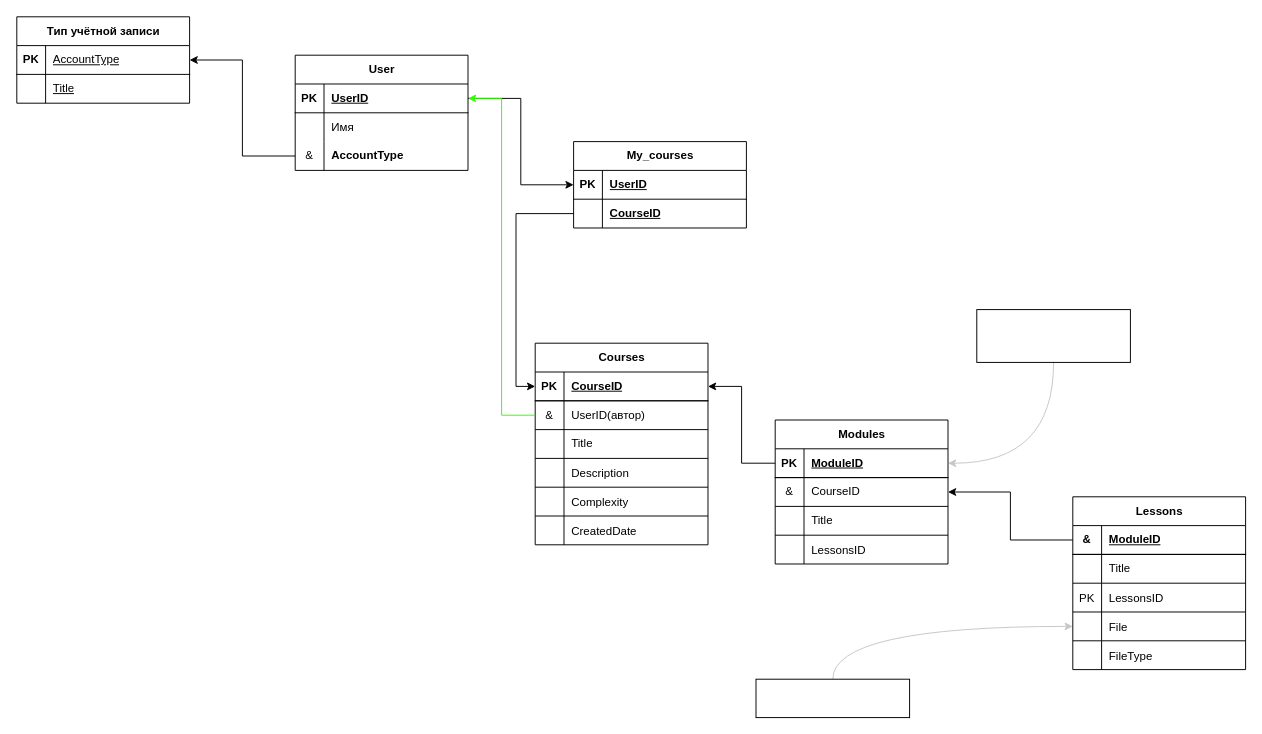
Image size: 1262x734. Some labels were removed from this diagram. The shapes that lost their labels are listed below. From the top down, each one's centre as x and y in pixels, then its label:
the point at 1053,335: ModuleID должен быть уникальным, а CourseID может быть одинаковым
the point at 832,698: File содержит путь до markdown-файла
